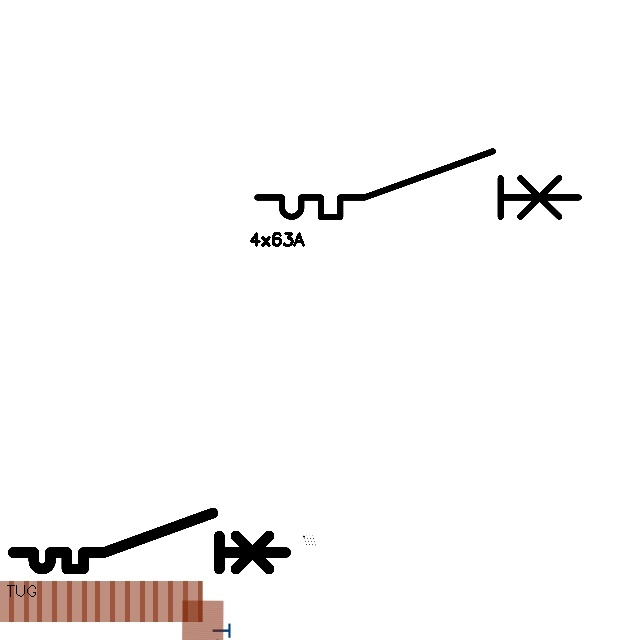interruptor_termomagnetico: (249, 143, 586, 225), (6, 506, 292, 576)
